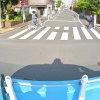crosswalks: (6, 26, 50, 42)
